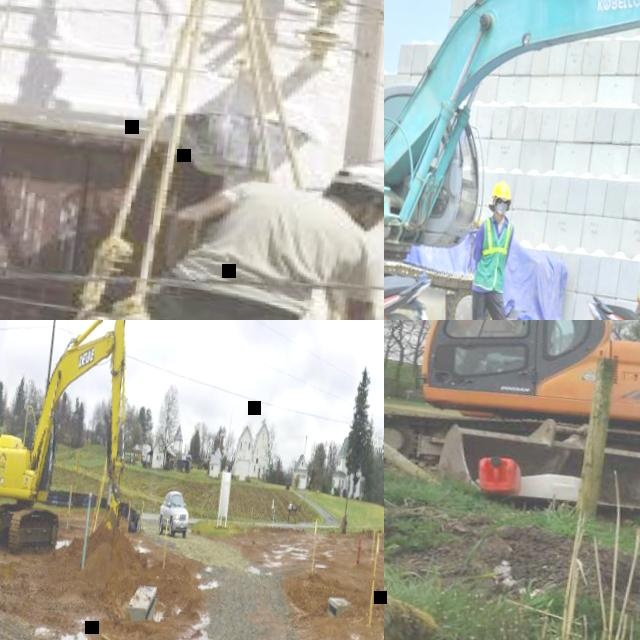Hardhat: (318, 158, 384, 210), (489, 181, 510, 201)
Mask: (492, 204, 507, 217)
NO-Mask: (351, 203, 383, 233)
NO-Safety Vest: (162, 173, 345, 317)
Person: (0, 117, 384, 320), (455, 175, 537, 320), (453, 320, 530, 382)
Safety Vest: (471, 216, 512, 289)
machinery: (384, 0, 640, 320), (384, 320, 640, 528), (0, 320, 167, 574)
vehicle: (154, 488, 191, 538)
